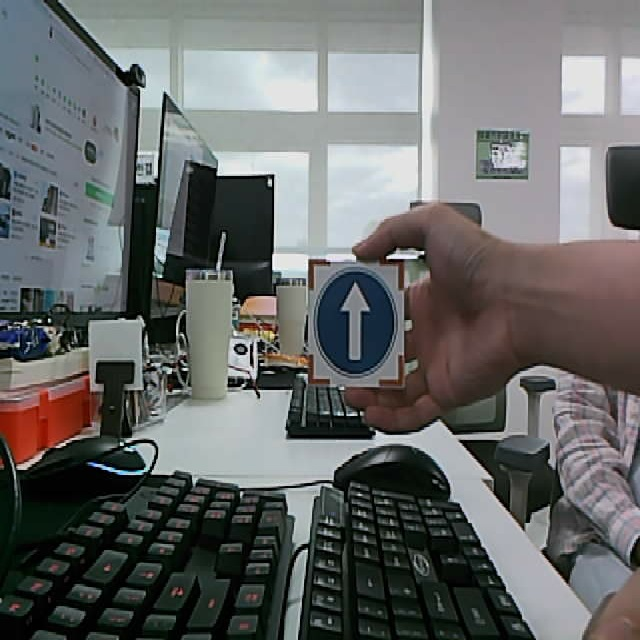straight: (305, 257, 406, 390)
